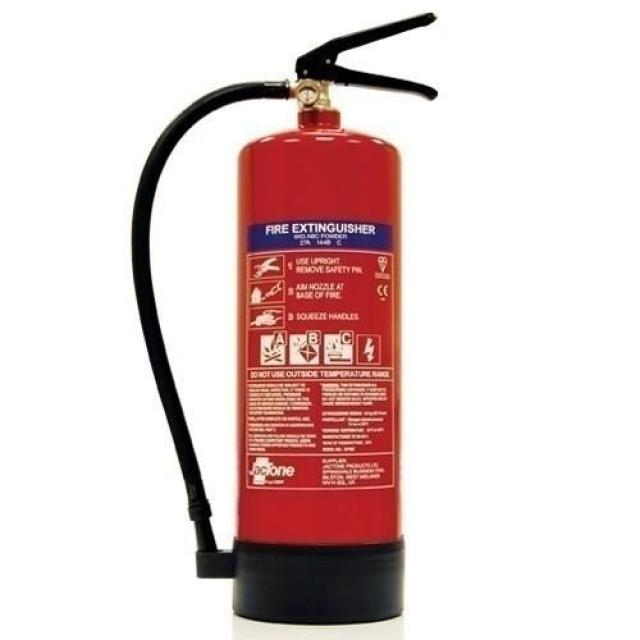fire_extinguisher: (126, 9, 442, 627)
